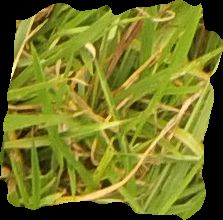grass: (1, 1, 221, 219)
